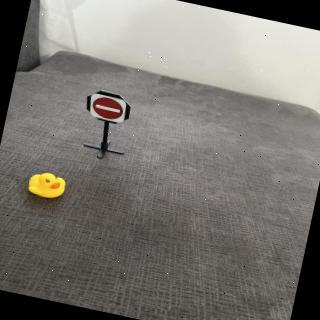duck_regular: (26, 169, 70, 203)
sign_noentry: (86, 91, 130, 127)
